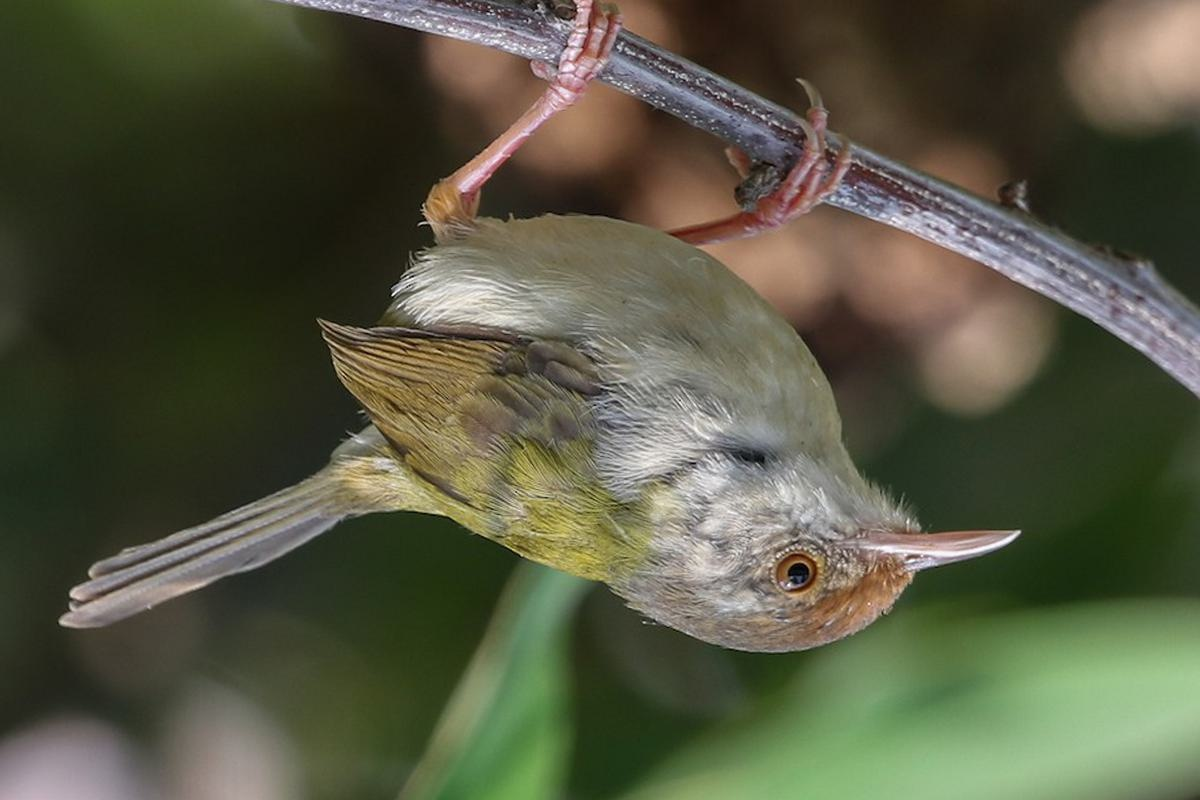tailorbird: (79, 84, 1008, 685)
